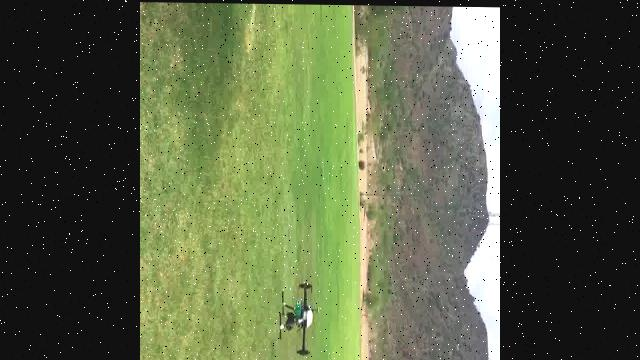drone: (273, 278, 331, 360)
